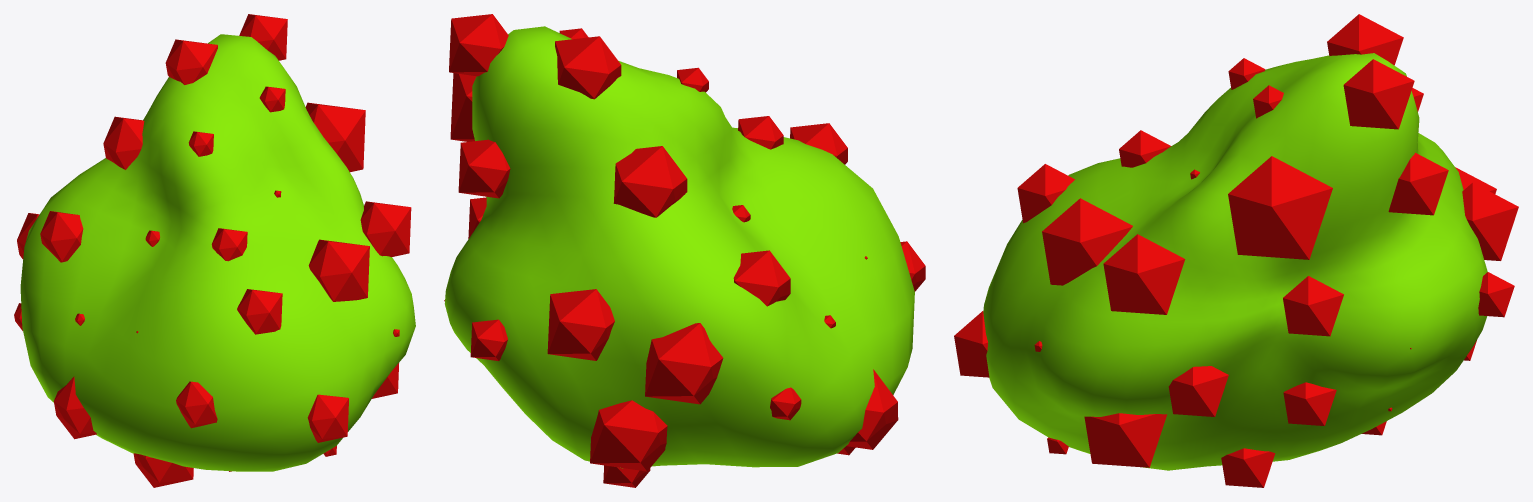
Rendered from ore.fbx.
3 renders of one model, left to right at view 1: azimuth 30°, elevation 25°; view 2: azimuth 150°, elevation 25°; view 3: azimuth 270°, elevation 25°, orthographic. The views are drawn at different scales.
Visible parts, largest first — view 1: Icosphere; view 2: Icosphere; view 3: Icosphere.
Part boxes in pixels (<box>): Icosphere: <box>14,14,415,487</box>; Icosphere: <box>444,14,925,487</box>; Icosphere: <box>954,14,1518,487</box>.
Size of the model in its own units: 400 by 438 by 478.
